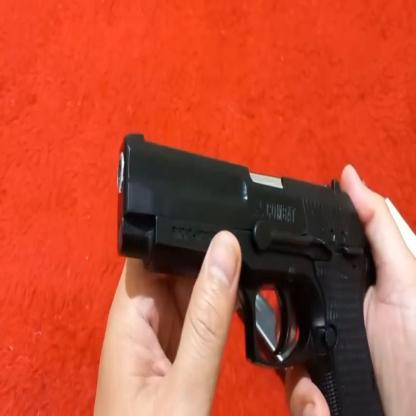handgun: (114, 128, 378, 416)
